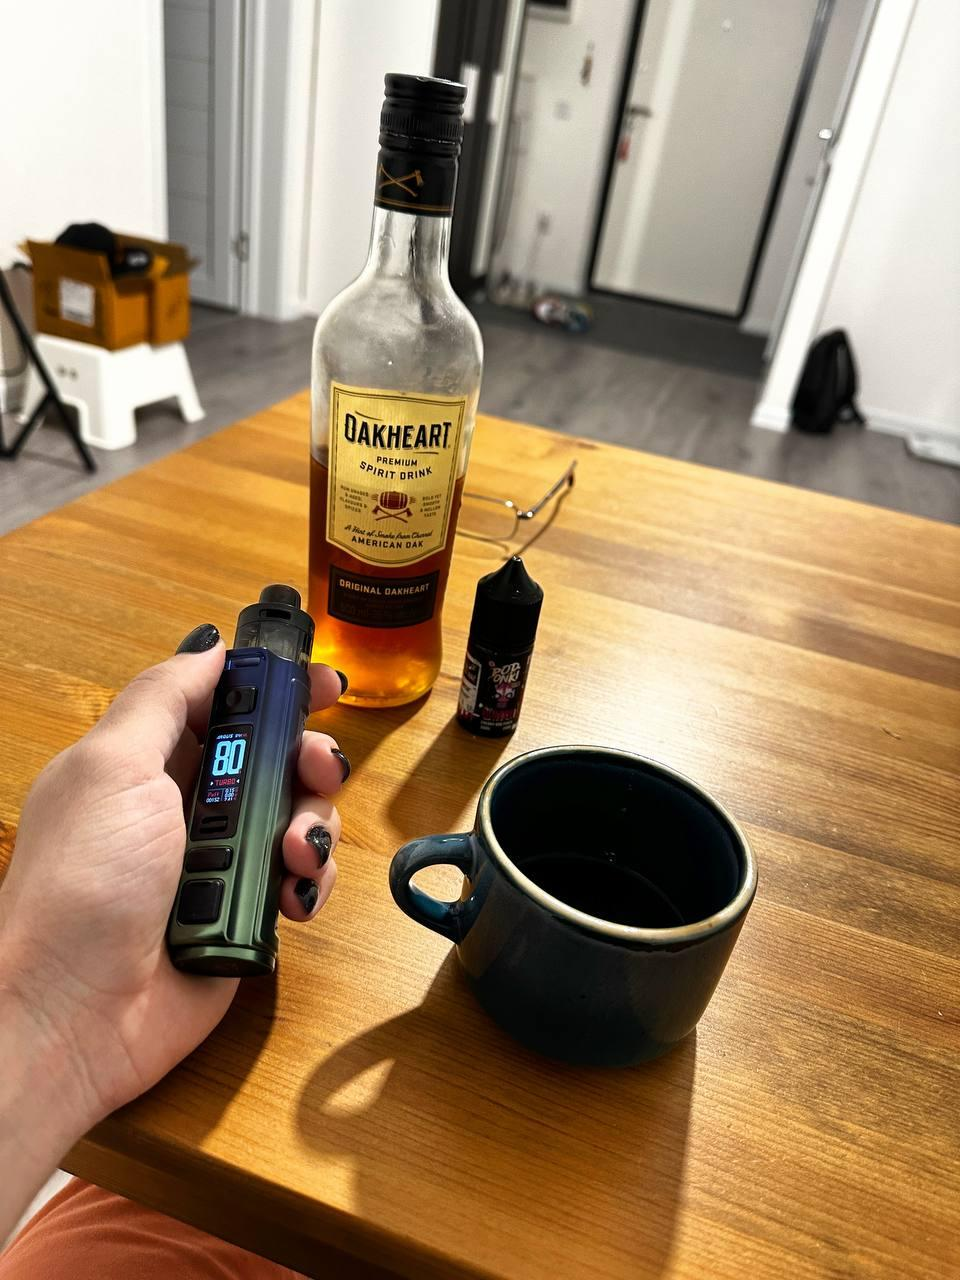Vape: (166, 586, 314, 977)
